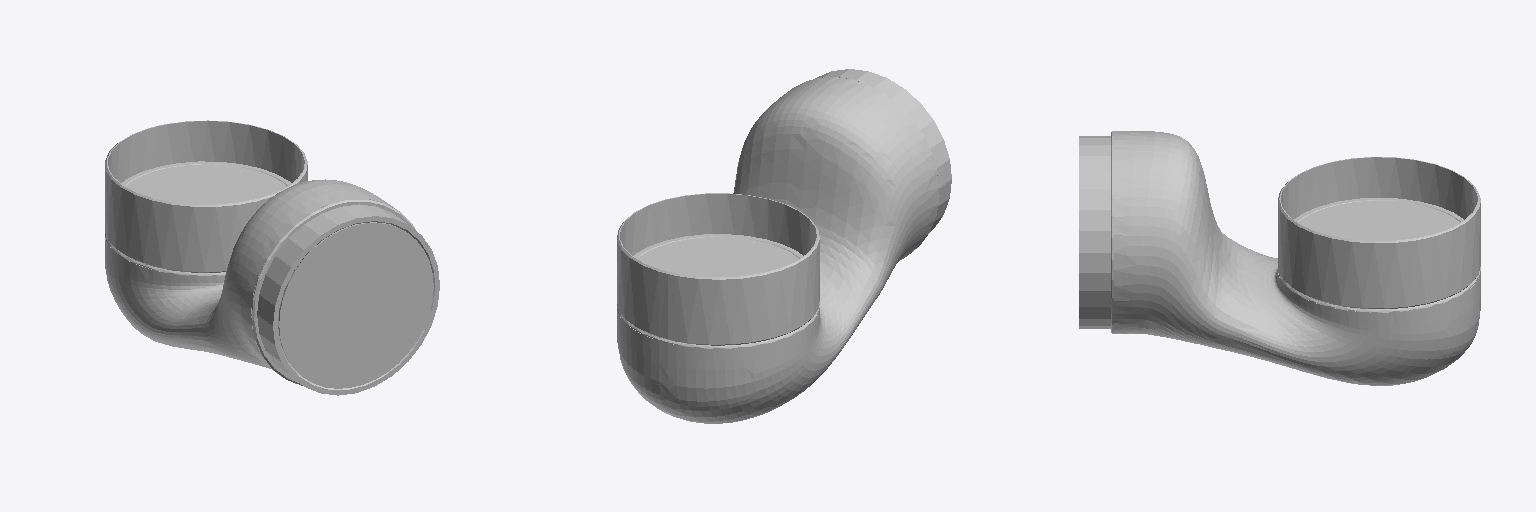
File: spherical_wrist_1_link_visuals_mesh_0.obj
3 renders of one model, left to right at view 1: azimuth 30°, elevation 25°; view 2: azimuth 150°, elevation 25°; view 3: azimuth 270°, elevation 25°, orthographic.
Bounding box in the file's own units: 0.07 × 0.088 × 0.1385.